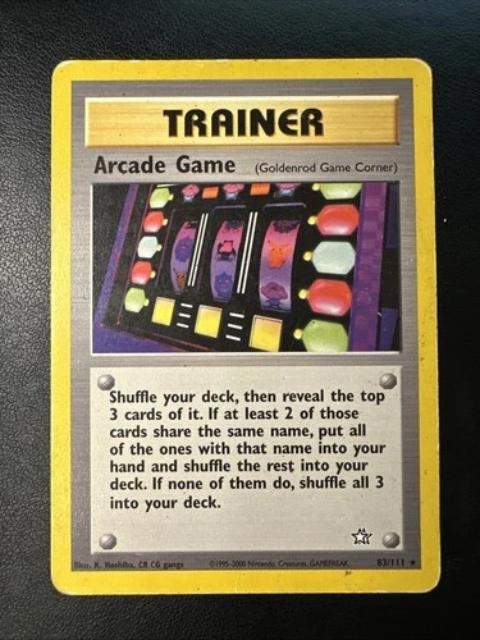Card: (45, 53, 445, 600)
Name: (87, 147, 242, 181)
